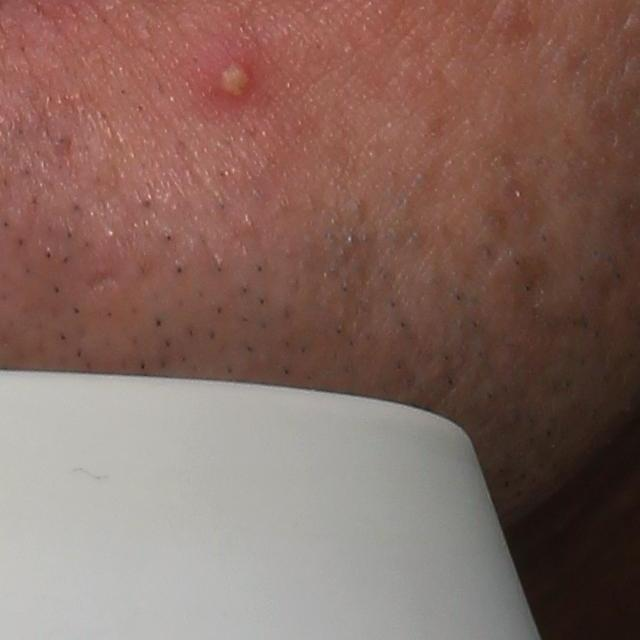pustule: (202, 47, 262, 117)
